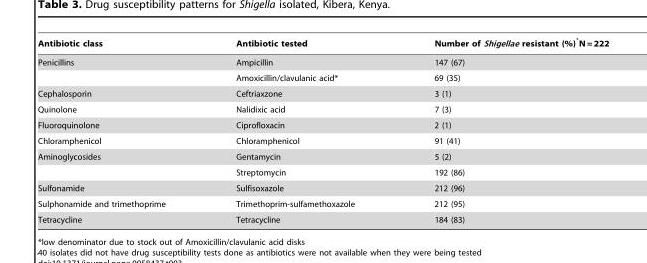table: (37, 36, 608, 223)
table column: (393, 36, 608, 223), (200, 36, 393, 223), (37, 36, 200, 223)
table column header: (37, 36, 608, 52)
table row: (37, 52, 608, 69), (37, 36, 608, 52), (37, 69, 608, 85), (37, 85, 608, 101), (37, 101, 608, 117), (37, 132, 608, 148), (37, 148, 608, 164), (37, 164, 608, 180), (37, 195, 608, 211), (37, 117, 608, 132), (37, 180, 608, 195), (37, 211, 608, 223)
table spanning cell: (37, 52, 200, 85), (37, 148, 200, 180)
